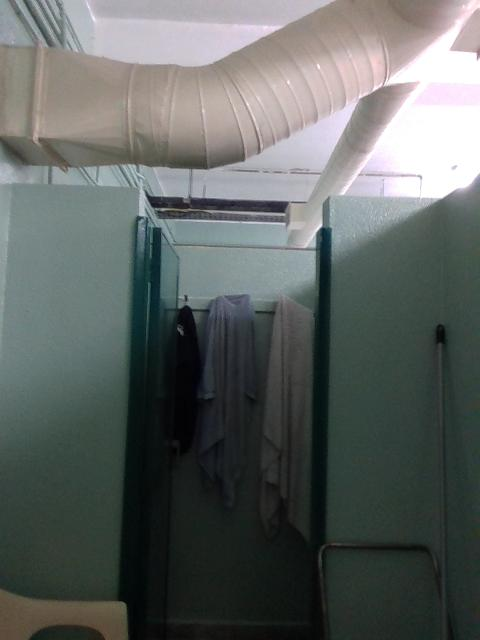open_door: (119, 184, 329, 638)
